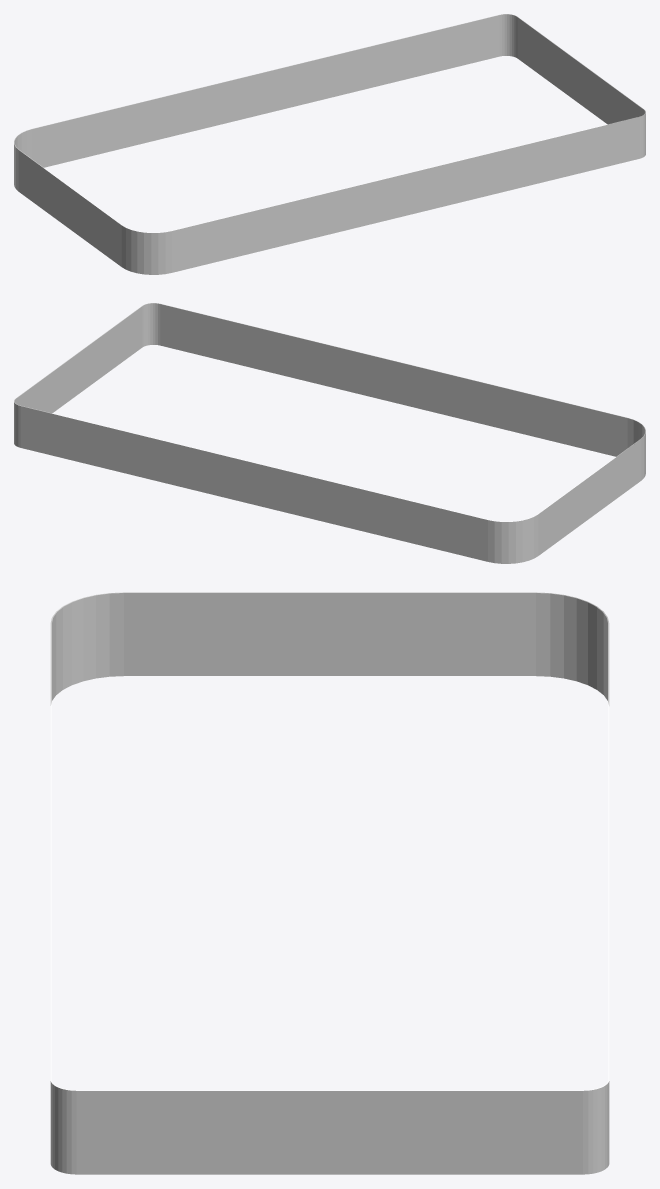
Rendered from transparent.glb.
3 renders of one model, top to bottom at view 1: azimuth 30°, elevation 25°; view 2: azimuth 150°, elevation 25°; view 3: azimuth 270°, elevation 25°, orthographic. The views are drawn at different scales.
Parts seen in each view (by area): view 1: wall, wall_line; view 2: wall, wall_line; view 3: wall, wall_line.
Boxes of the visible parts, box(x1,y1,x2,y2) form: wall: box(14, 14, 645, 274); wall_line: box(14, 14, 645, 232); wall: box(14, 303, 645, 563); wall_line: box(14, 303, 645, 521); wall: box(50, 592, 609, 1174); wall_line: box(50, 592, 609, 1090).
Bounding box in the file's own units: 44.8 × 3.51 × 21.23.
Materials: 2 (1 with a texture image).
